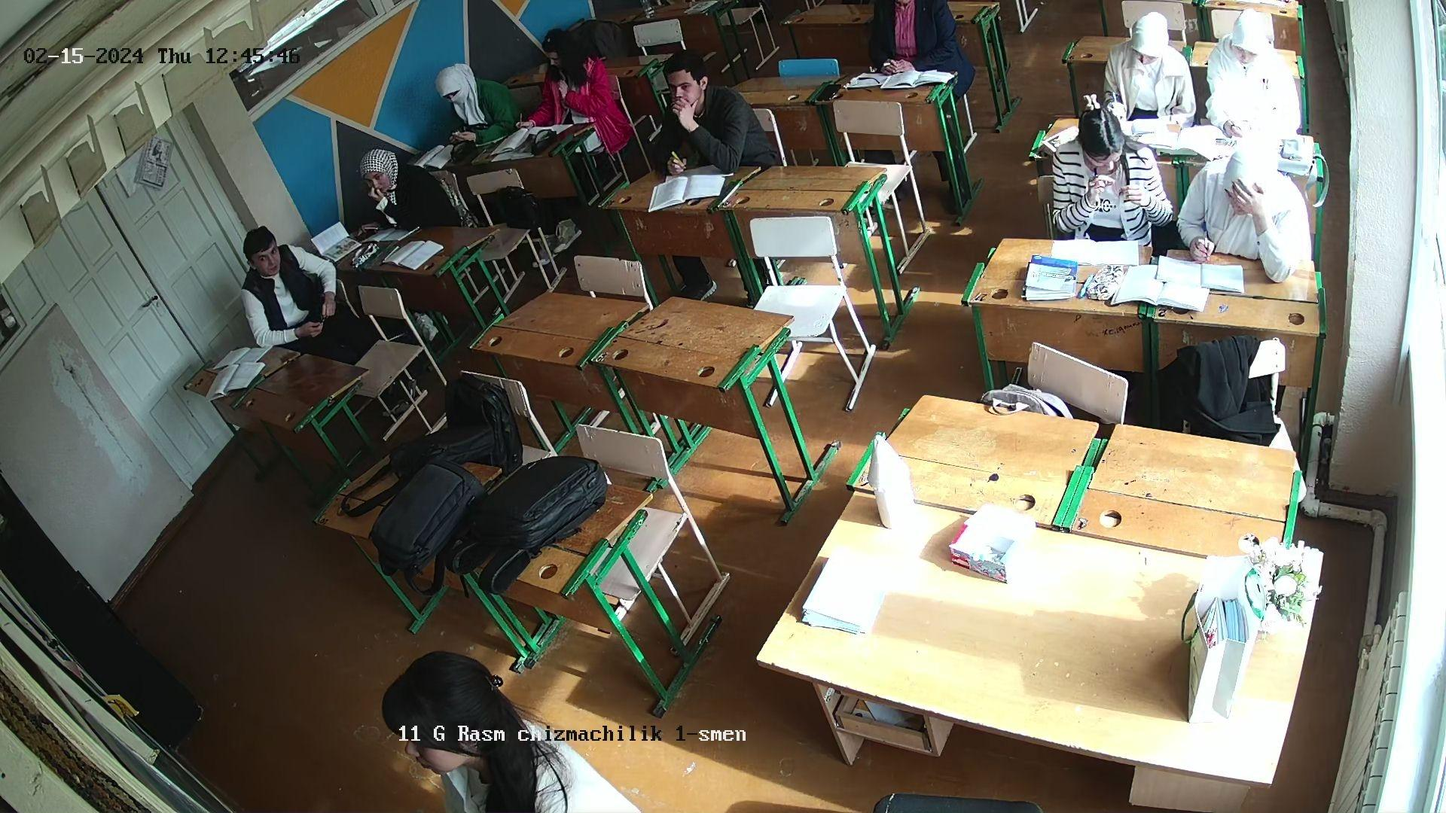Look Around: (227, 215, 345, 349), (661, 60, 764, 168)
Stand Up: (380, 653, 663, 813)
